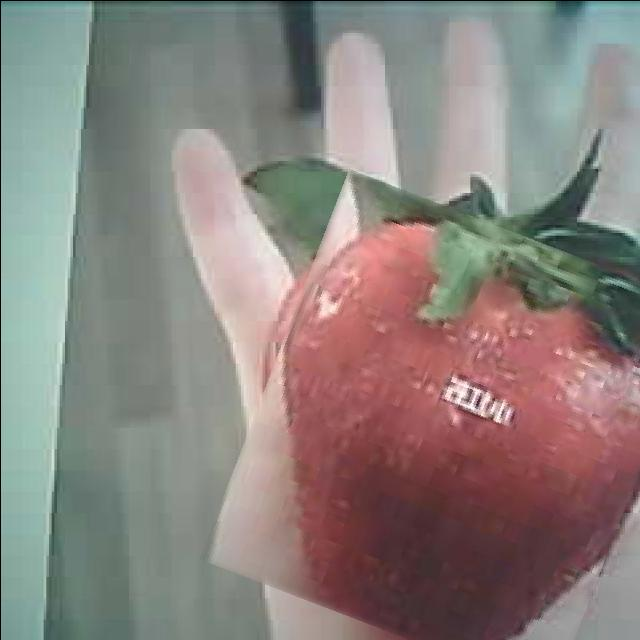strawberry: (230, 195, 640, 640)
